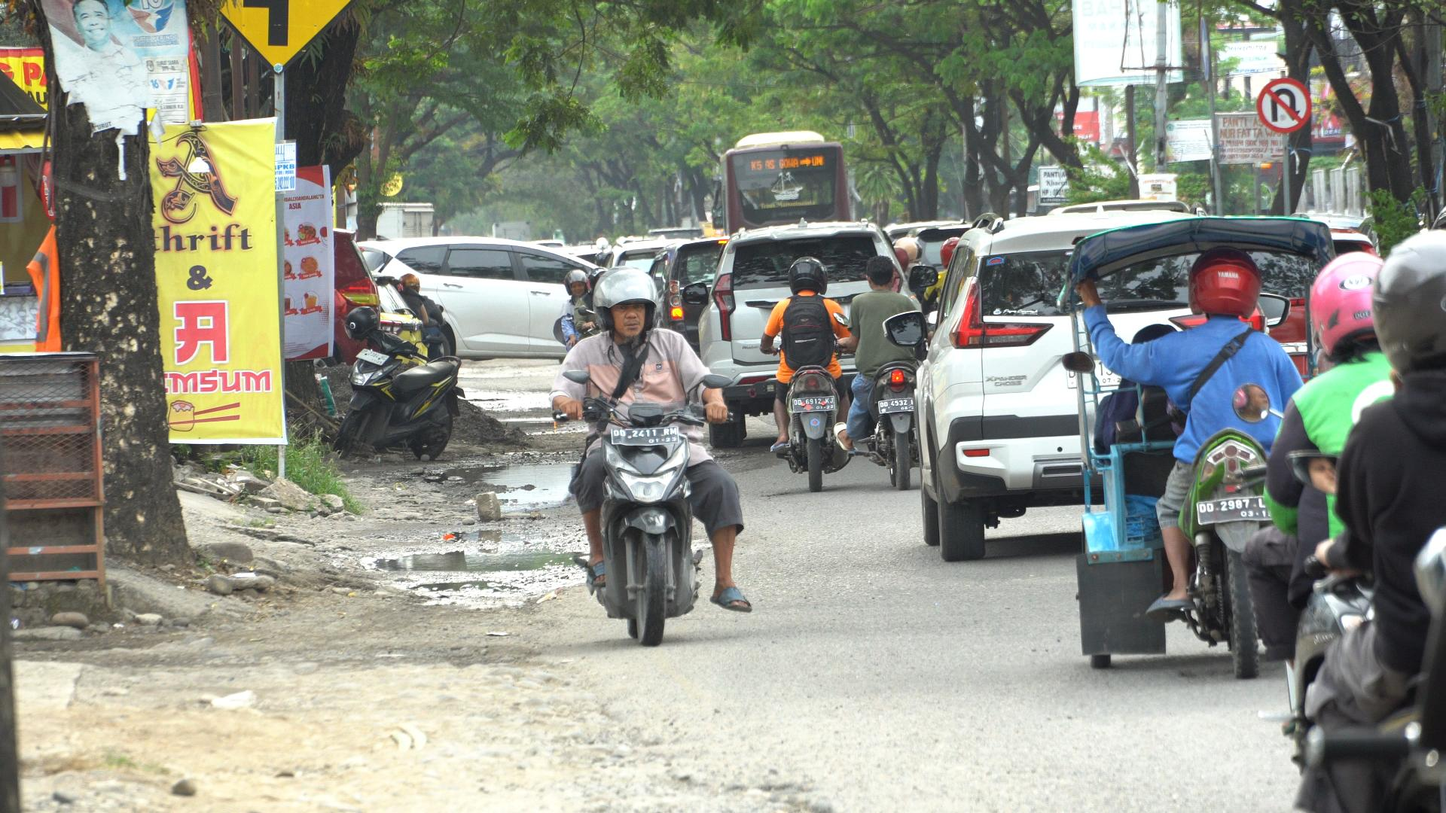number-plate: (610, 427, 679, 448)
